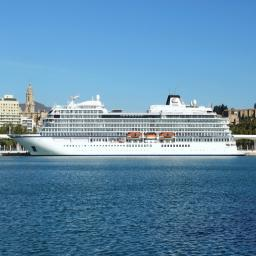cruises: (7, 93, 248, 159)
